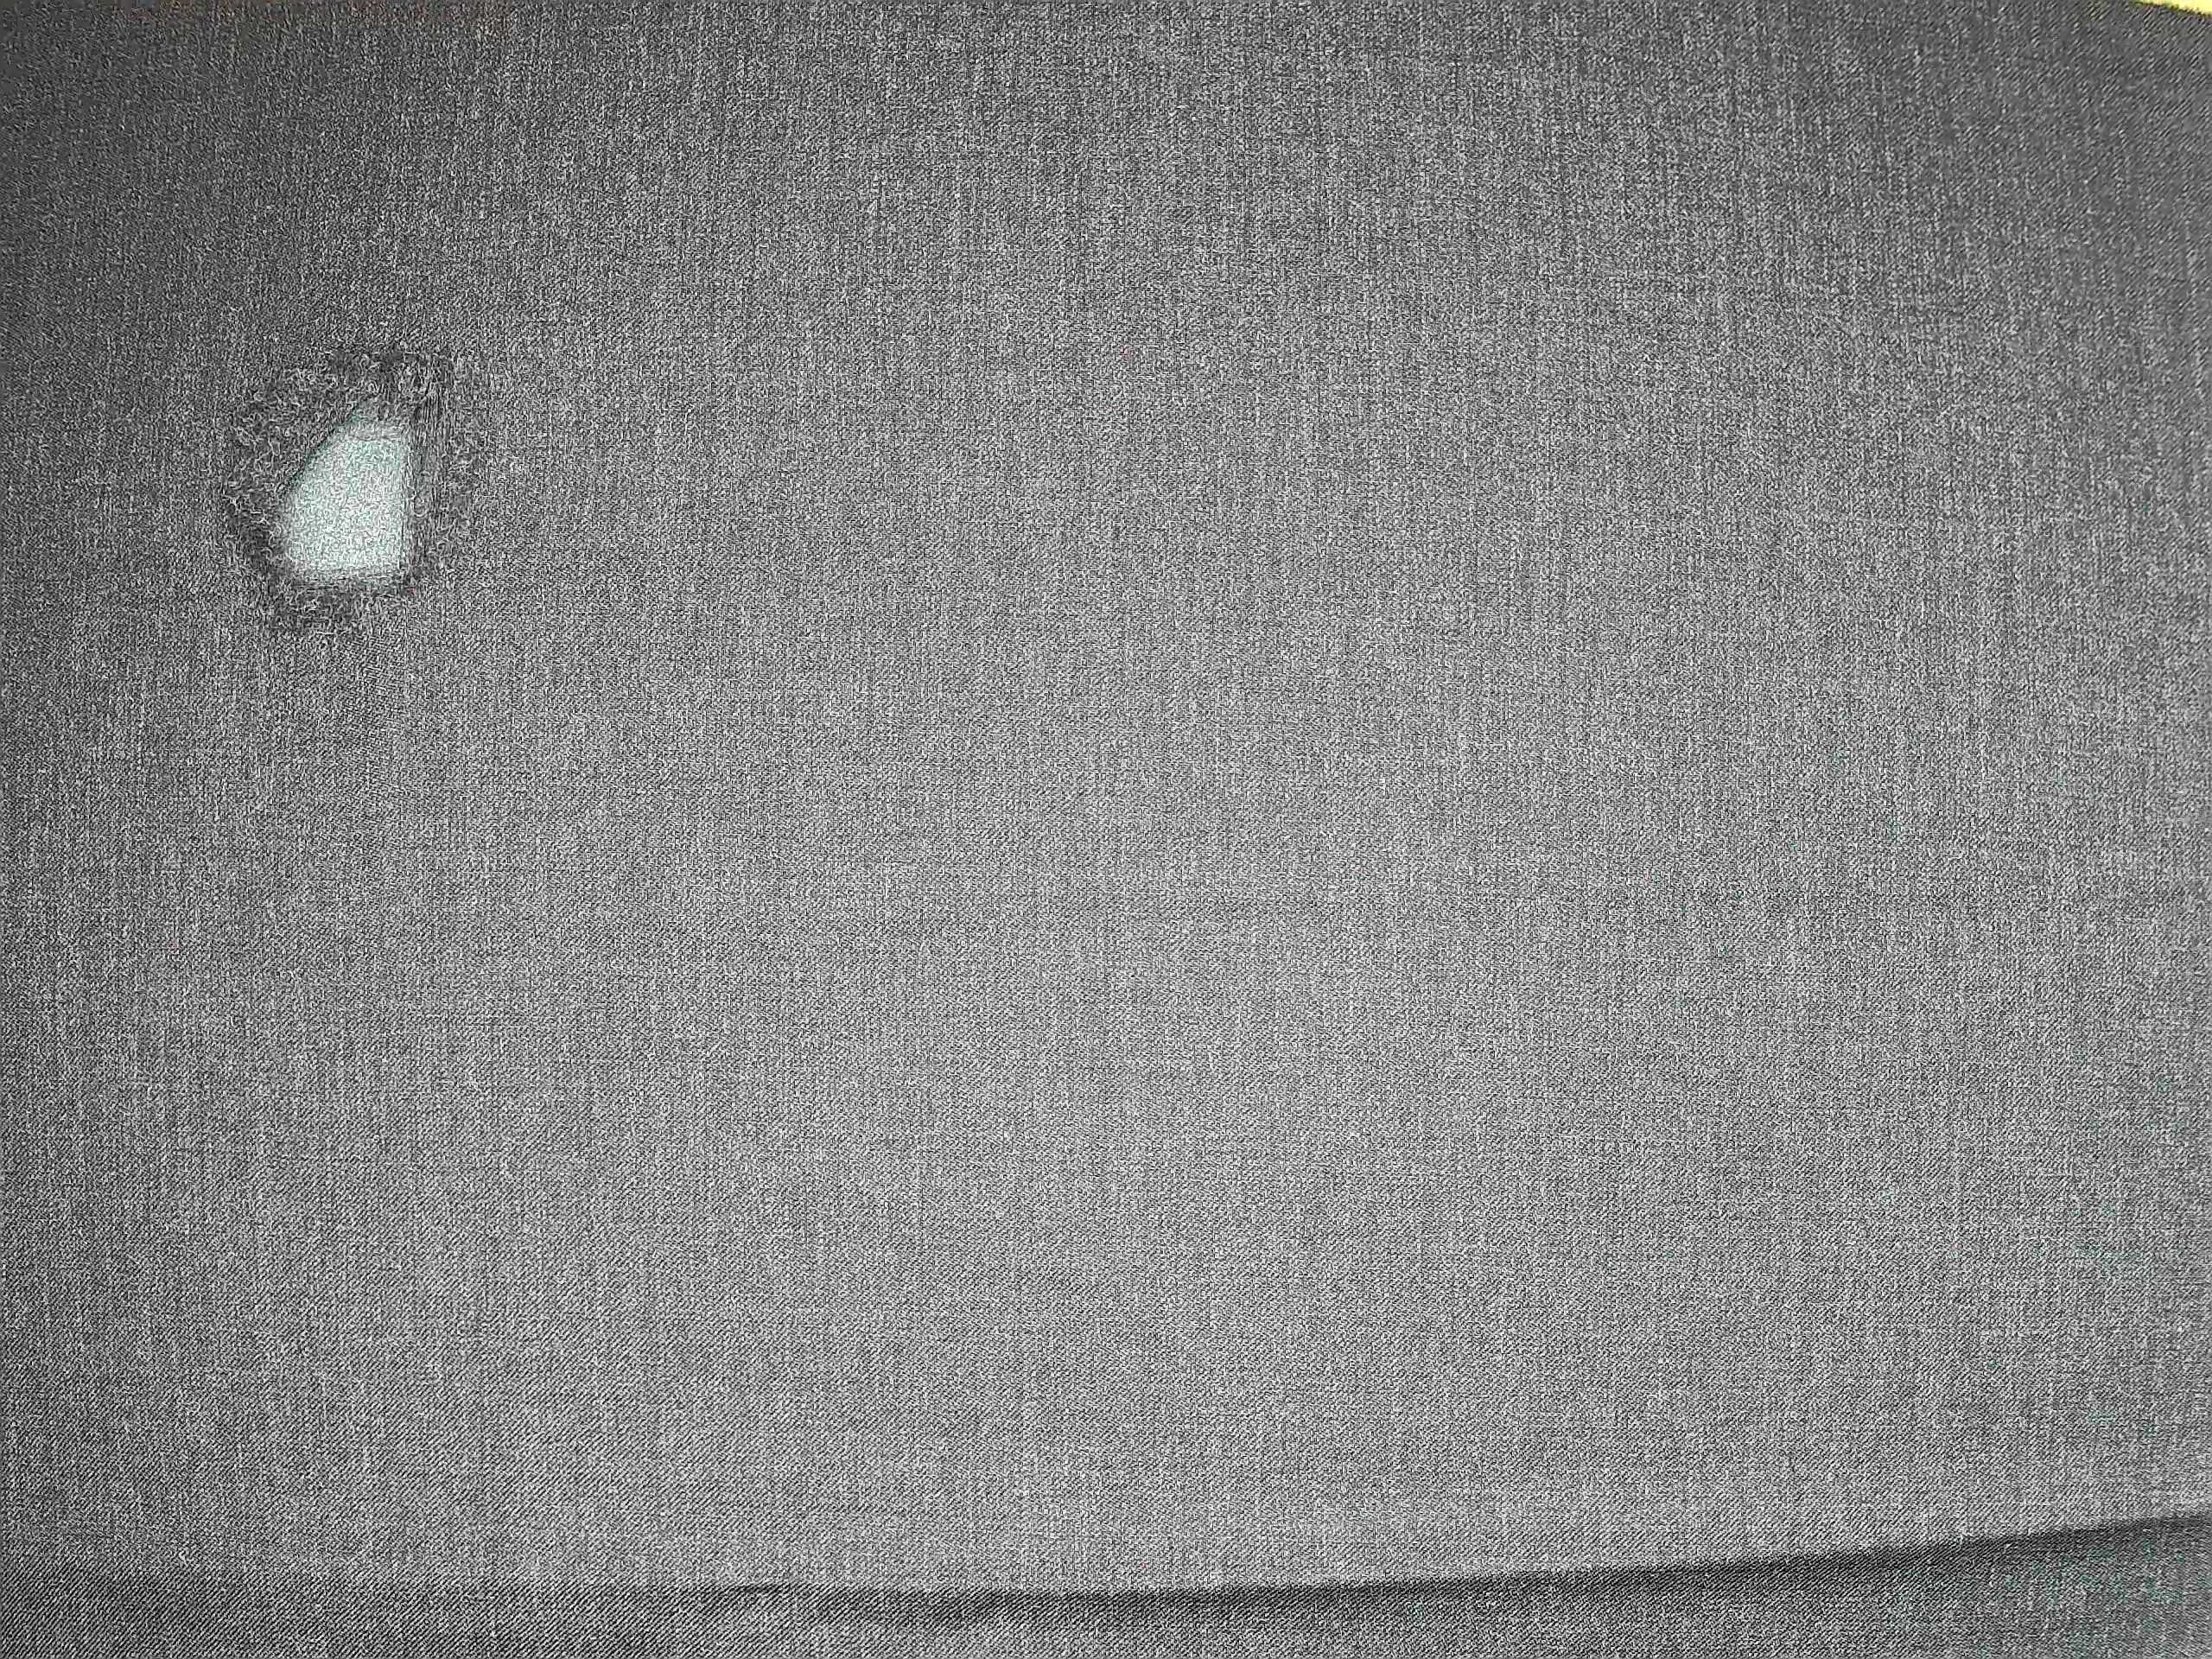rubbing-hole: (206, 308, 503, 660)
